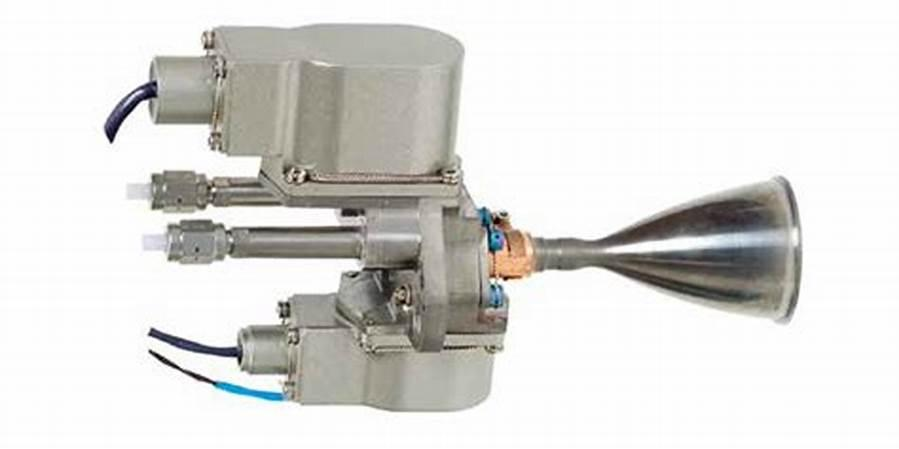thruster: (539, 169, 801, 326)
